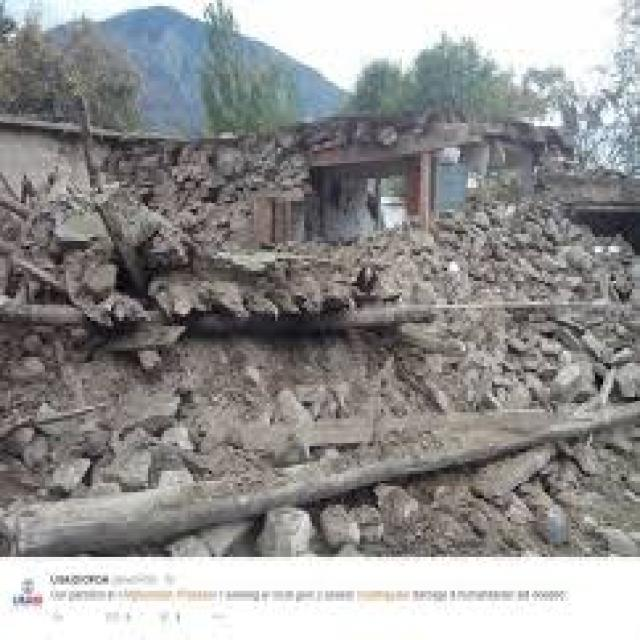Earthquake: (47, 100, 591, 562)
